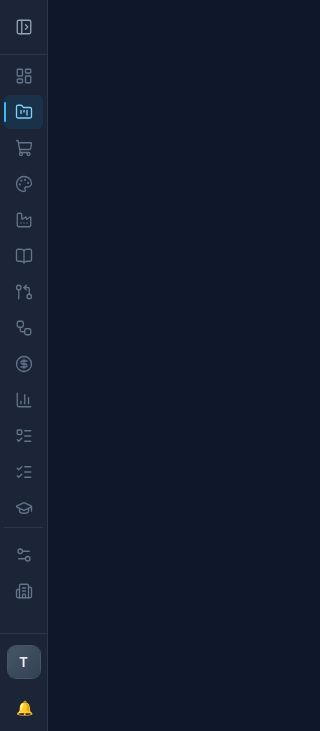
Test case: Sidebar rail on project pages › remembers an expanded rail for the next project page
Later steps or results of the test are not shown.
Step 1. Click the button titled "Expand" → (24, 27), box [8, 12, 38, 42]
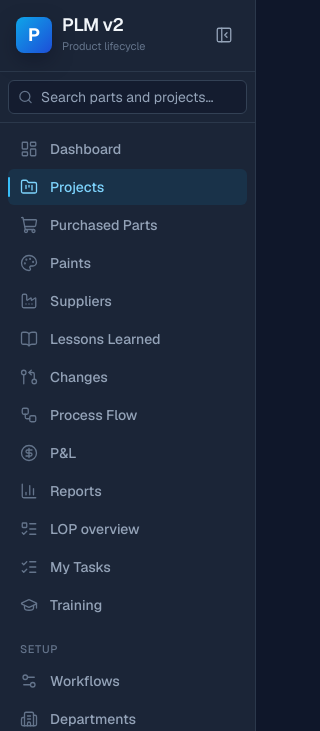
Now the text "Dashboard" is shown, box [50, 140, 121, 158]
